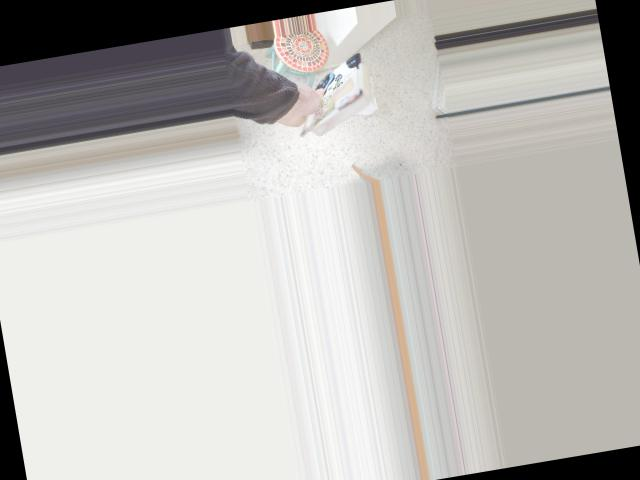cheese: (267, 37, 383, 151)
